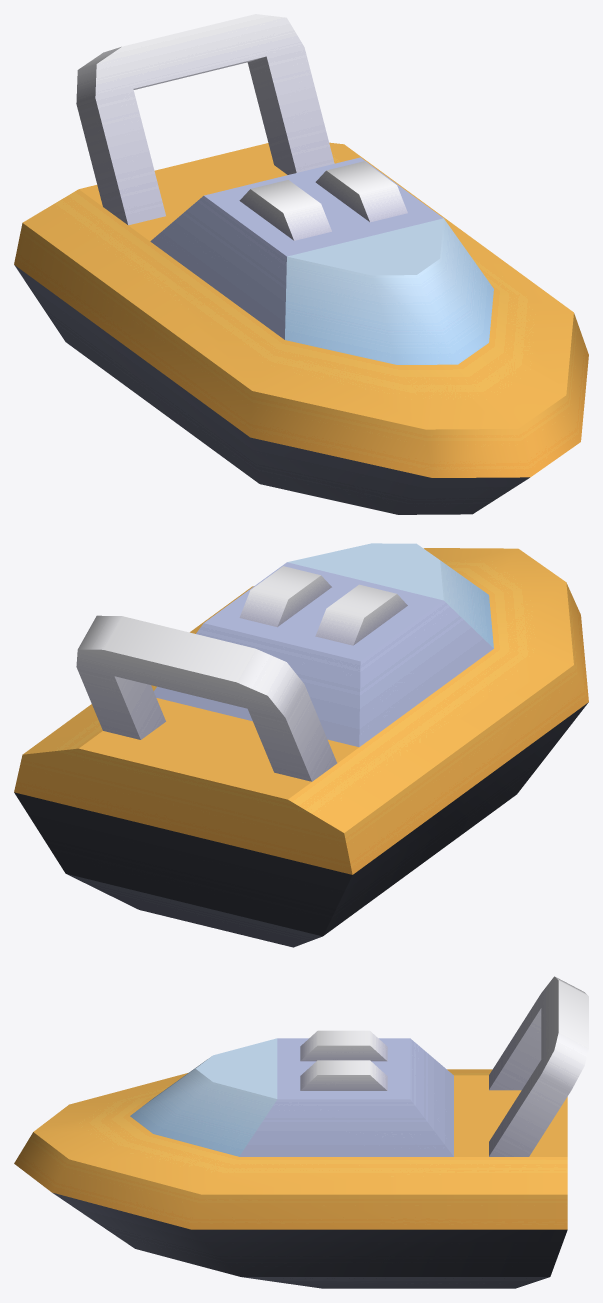
File: boat-speed-b.glb
3 renders of one model, top to bottom at view 1: azimuth 30°, elevation 25°; view 2: azimuth 150°, elevation 25°; view 3: azimuth 270°, elevation 25°, orthographic. The views are drawn at different scales.
Visible parts, largest first — view 1: boat-speed-b; view 2: boat-speed-b; view 3: boat-speed-b.
Boxes of the visible parts, x1=… form: boat-speed-b: x1=14, y1=14, x2=588, y2=514; boat-speed-b: x1=14, y1=543, x2=588, y2=947; boat-speed-b: x1=14, y1=976, x2=588, y2=1288.
Bounding box in the file's own units: 1.78 × 1.59 × 3.29.
1 material, 1 textured.
